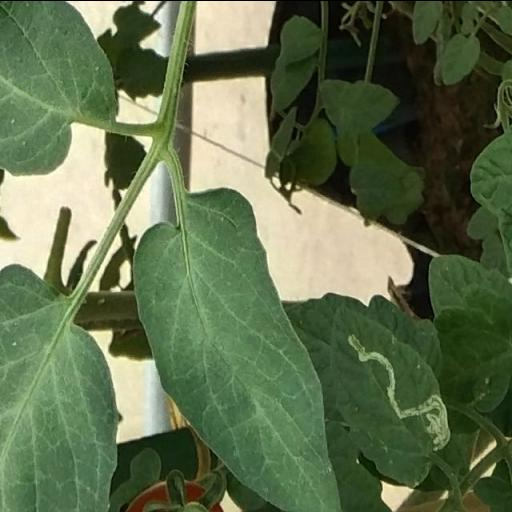disease_tomato: (324, 302, 455, 488)
